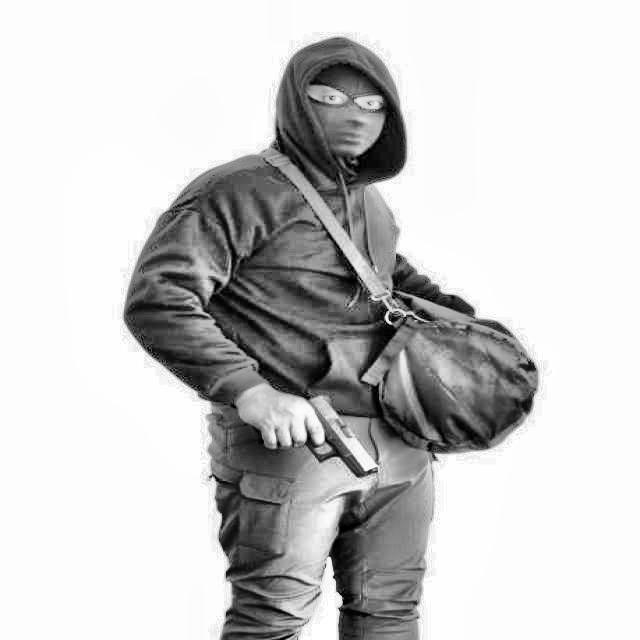robbery: (116, 29, 542, 640)
